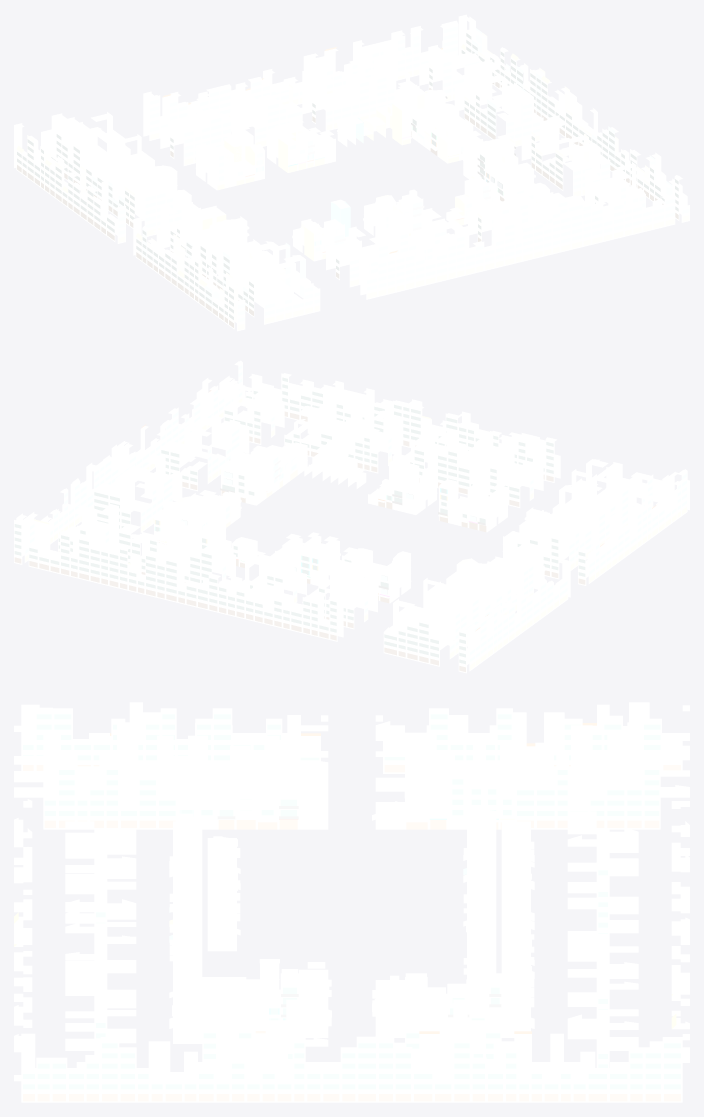
Rendered from nha_vanh_p2.glb.
3 renders of one model, top to bottom at view 1: azimuth 30°, elevation 25°; view 2: azimuth 150°, elevation 25°; view 3: azimuth 270°, elevation 25°, orthographic. The views are drawn at different scales.
Parts seen in each view (by area): view 1: VanhXa, VanhGan; view 2: VanhXa, VanhGan; view 3: VanhXa, VanhGan.
Boxes of the visible parts, x1,y1,x2,y2 form: VanhXa: (14, 14, 689, 331); VanhGan: (138, 84, 549, 269); VanhXa: (14, 360, 689, 673); VanhGan: (154, 438, 565, 607); VanhXa: (14, 702, 689, 1102); VanhGan: (169, 763, 534, 1037).
Bounding box in the file's own units: 217 × 20.2 × 185.
